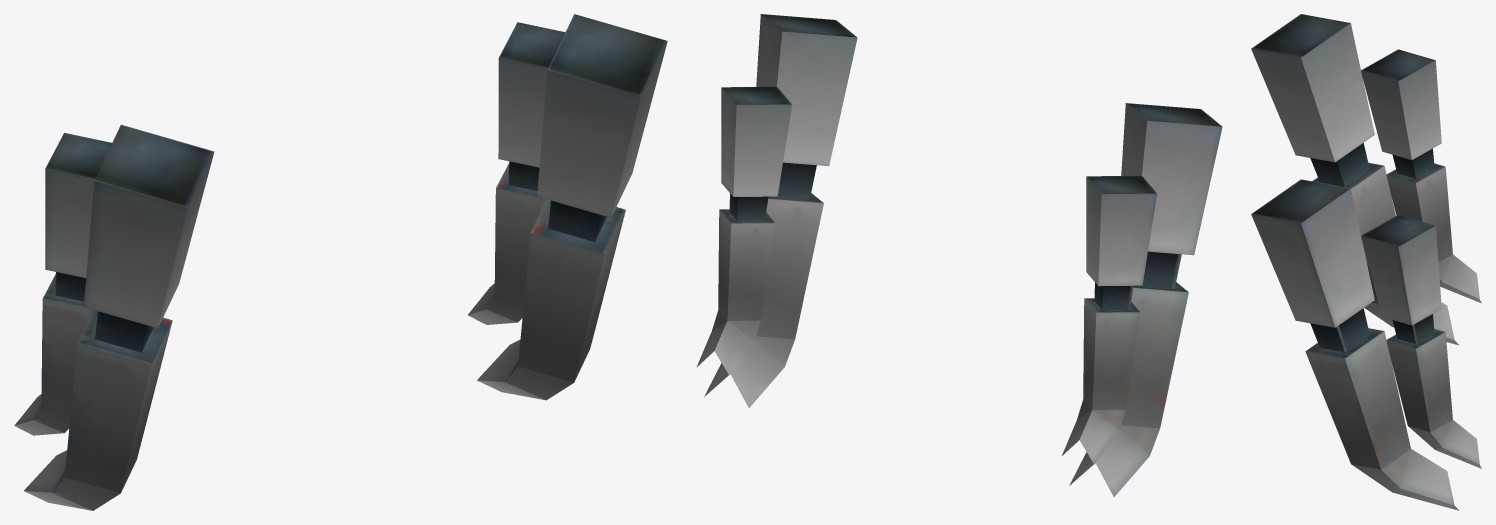
File: Truck 4 Thruster.glb
3 renders of one model, left to right at view 1: azimuth 30°, elevation 25°; view 2: azimuth 150°, elevation 25°; view 3: azimuth 270°, elevation 25°, orthographic. The views are drawn at different scales.
Visible parts, largest first — view 1: thrusters; view 2: thrusters; view 3: thrusters.
Boxes of the visible parts, x1,y1,x2,y2 form: thrusters: (14, 14, 667, 510); thrusters: (696, 14, 1222, 496); thrusters: (1251, 14, 1481, 510).
Bounding box in the file's own units: 1.68 × 1.2 × 0.7813.
1 material, 1 textured.
